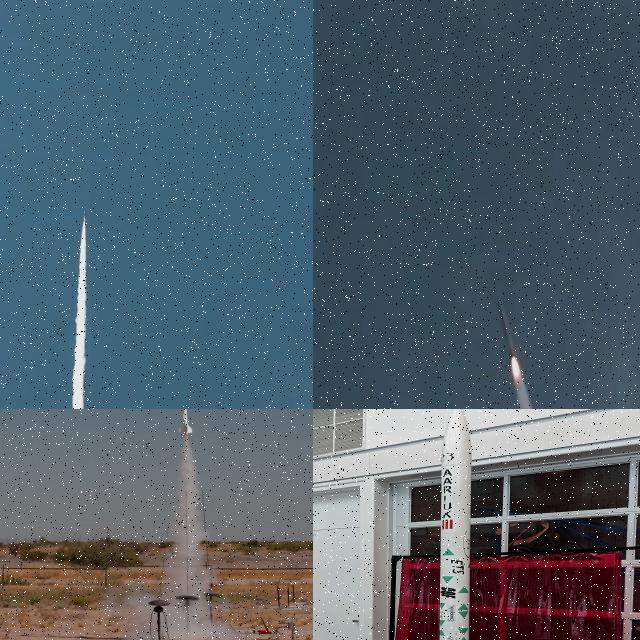Rocket: (439, 409, 472, 640), (496, 295, 516, 368), (179, 409, 192, 435), (83, 210, 86, 222)
